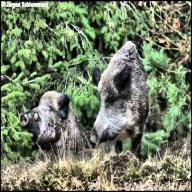boar: (92, 38, 177, 158), (11, 77, 86, 143)
